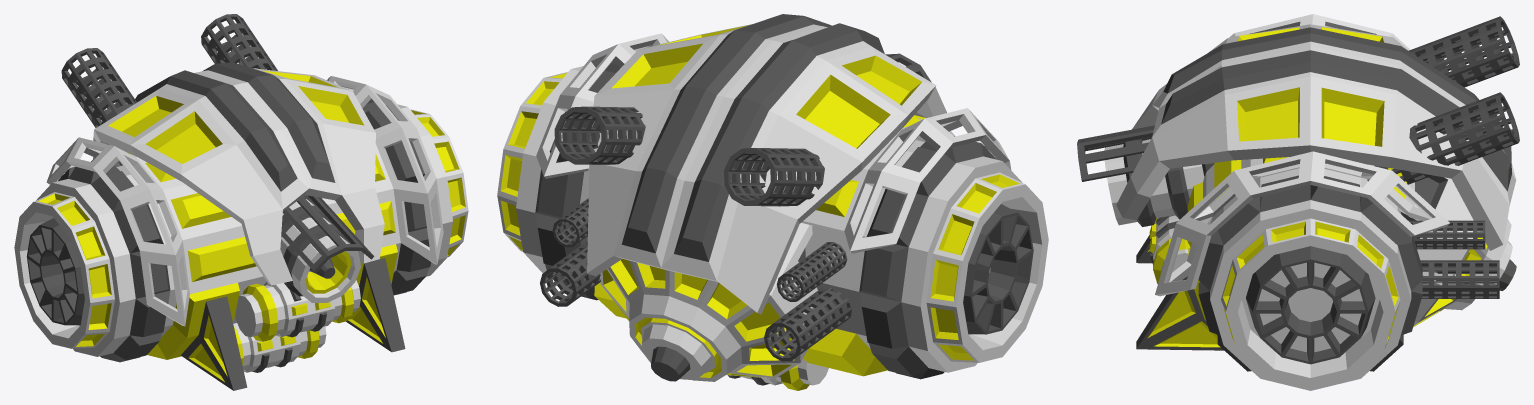
Rendered from enemy.fbx.
3 renders of one model, left to right at view 1: azimuth 30°, elevation 25°; view 2: azimuth 150°, elevation 25°; view 3: azimuth 270°, elevation 25°, orthographic. The views are drawn at different scales.
Parts seen in each view (by area): view 1: polySurface100; view 2: polySurface100; view 3: polySurface100.
Boxes of the visible parts, x1,y1,x2,y2 form: polySurface100: (14,14,468,390); polySurface100: (497,14,1048,390); polySurface100: (1077,14,1519,390).
Bounding box in the file's own units: 0.8865 × 0.61 × 0.8049.
